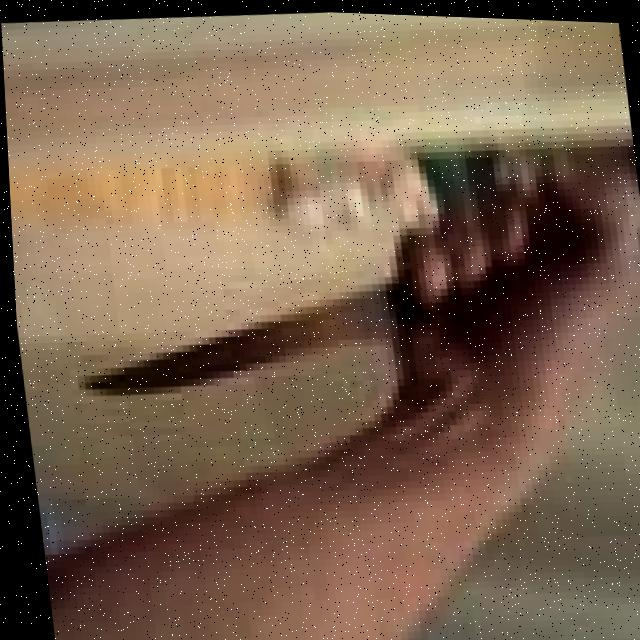knife: (56, 262, 419, 408)
